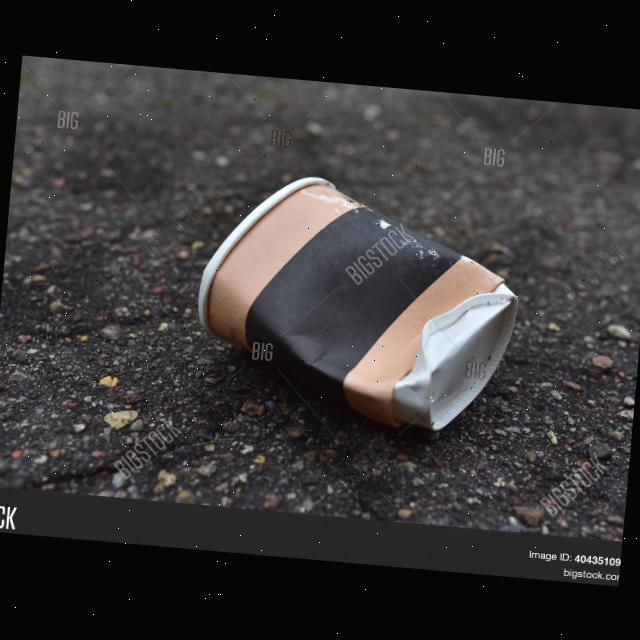trash: (184, 166, 529, 438)
